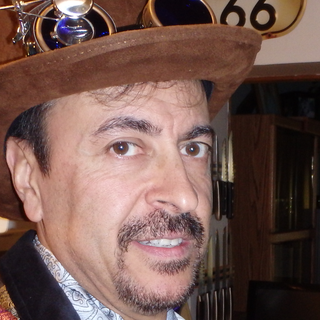eye: (99, 134, 151, 163), (175, 135, 214, 162)
